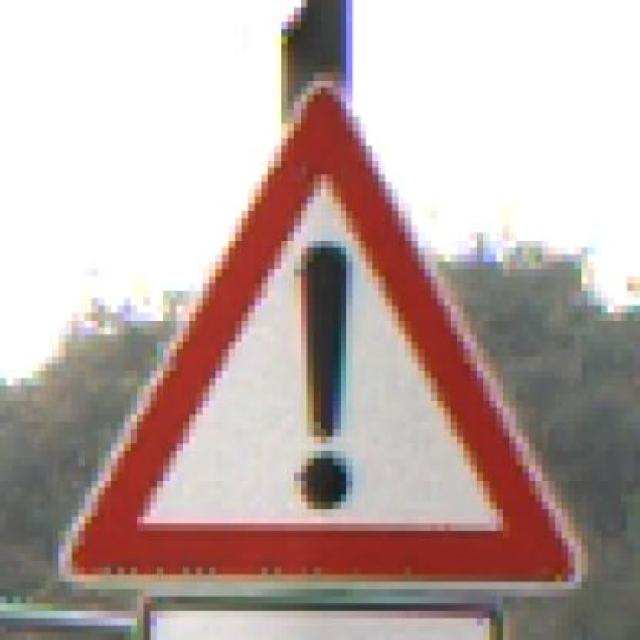Attention Please-: (52, 54, 608, 608)
